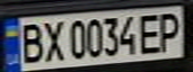0: (63, 16, 87, 61), (84, 16, 106, 58)
3: (103, 15, 121, 56)
4: (118, 12, 139, 56)
B: (15, 20, 45, 64)
E: (136, 11, 163, 55)
P: (154, 9, 187, 54)
X: (39, 18, 66, 64)
